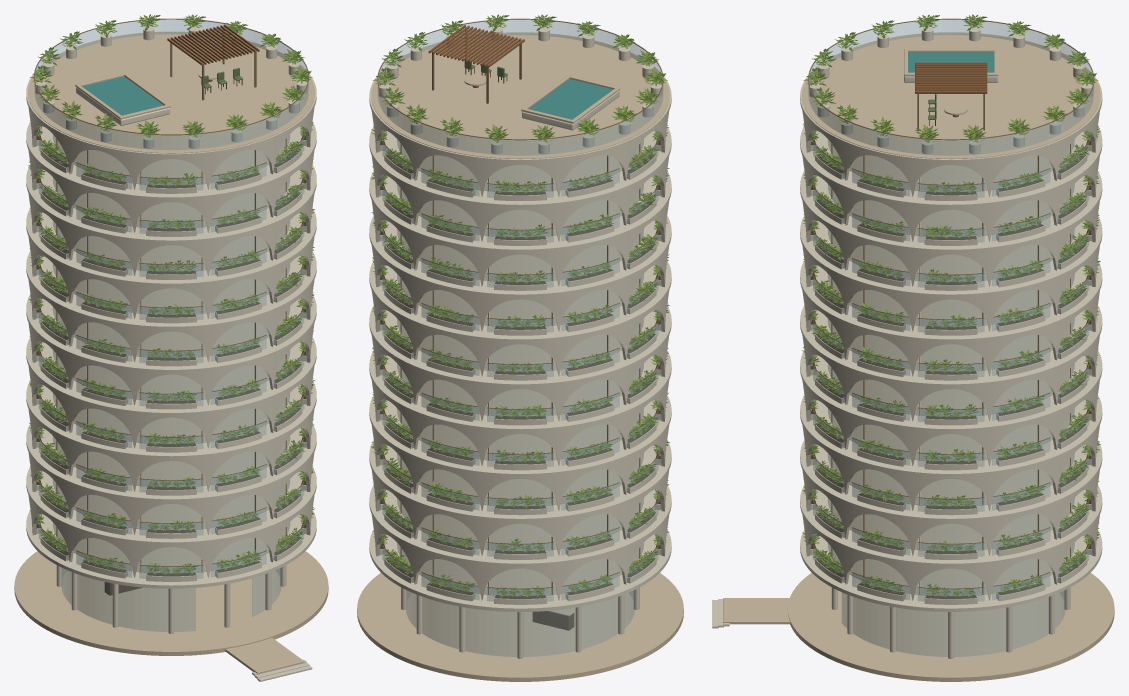
The model's file is tower-v2.glb.
The picture shows the model from 3 angles, left to right: view 1: azimuth 30°, elevation 25°; view 2: azimuth 150°, elevation 25°; view 3: azimuth 270°, elevation 25°; orthographic projection. The views are drawn at different scales.
Parts seen in each view (by area): view 1: EME_tower; view 2: EME_tower; view 3: EME_tower.
Boxes of the visible parts, box(x1,y1,x2,y2) form: EME_tower: box(14, 14, 328, 681); EME_tower: box(357, 14, 683, 681); EME_tower: box(712, 14, 1114, 681).
Size of the model in its own units: 20.8 by 39.26 by 25.6.
